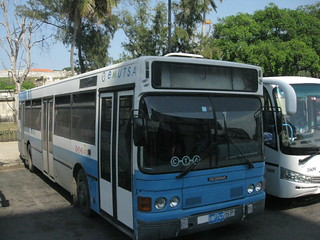bus: (17, 53, 266, 240), (263, 74, 320, 199)
